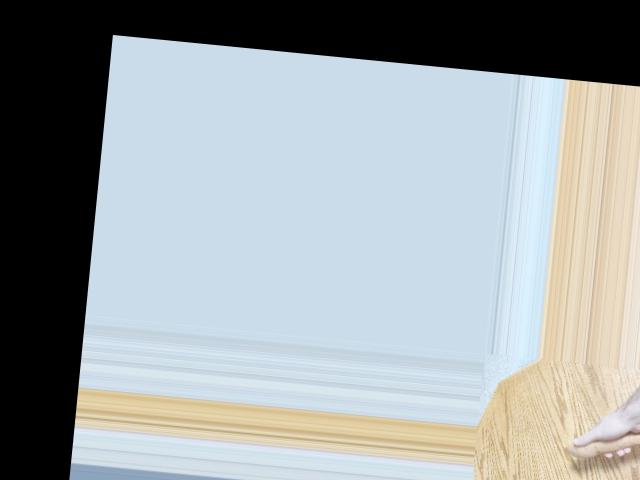sweet_potato: (566, 411, 640, 470)
